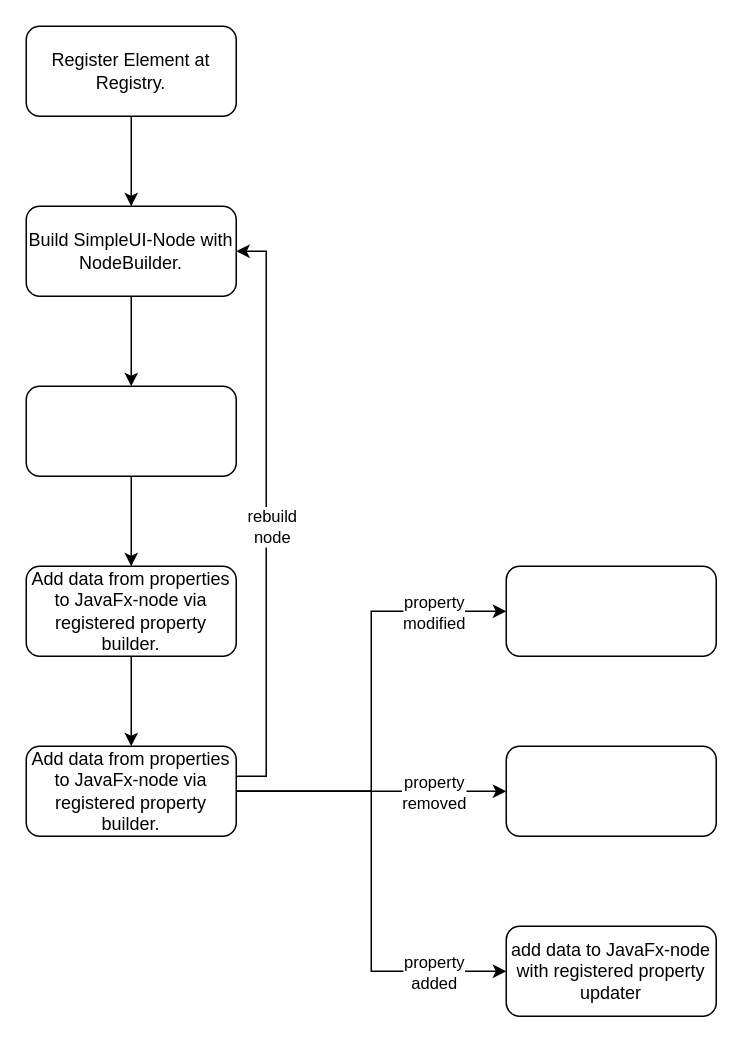
The diagram is 743 pixels wide and 1043 high, and some of its shapes have lost their labels. Each missing label, with the box of its shape:
Build base JavaFx-Node with registered Node Builder.: (25, 385, 236, 476)
remove data from JavaFxNode with registered property updater: (505, 745, 716, 836)
update JavaFx-node with registered property updater: (505, 565, 716, 656)
